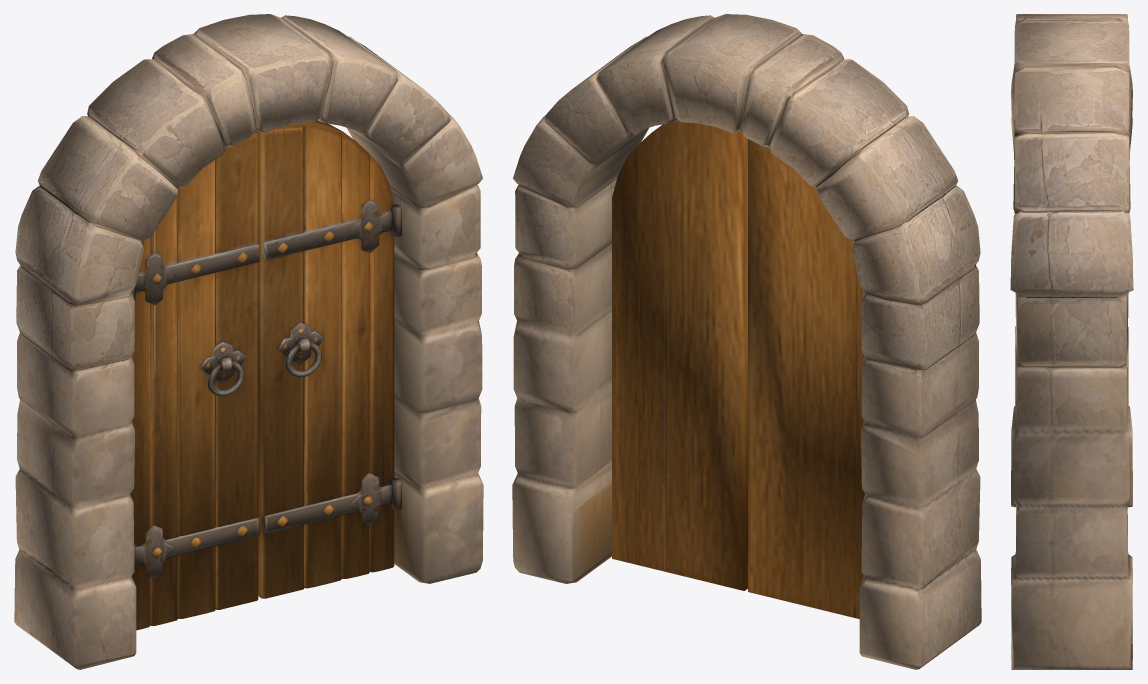
File: Furn_Castle_SmallDoor.fbx
3 views of the same model, side by side, from view 1: azimuth 30°, elevation 25°; view 2: azimuth 150°, elevation 25°; view 3: azimuth 270°, elevation 25° (orthographic). The views are drawn at different scales.
Parts seen in each view (by area): view 1: Frame, Door_Leaf; view 2: Frame, Door_Leaf; view 3: Frame.
Part boxes in pixels (bbox=[...]): Frame: bbox=[14, 14, 483, 669]; Door_Leaf: bbox=[130, 120, 401, 630]; Frame: bbox=[512, 14, 981, 669]; Door_Leaf: bbox=[612, 120, 865, 618]; Frame: bbox=[1010, 14, 1133, 669].
Bounding box in the file's own units: 2.31 × 3 × 0.617.
1 material, 1 textured.
